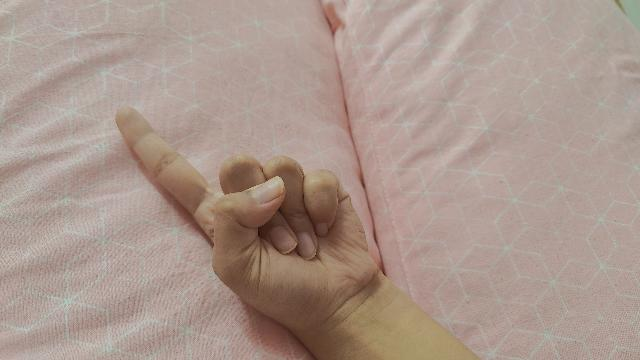soochi: (116, 108, 478, 360)
